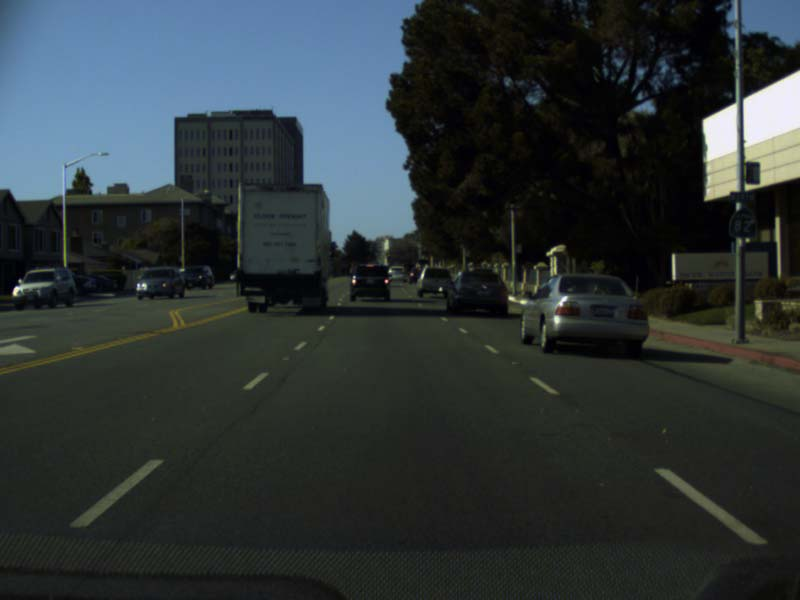Red: (386, 253, 390, 258)
